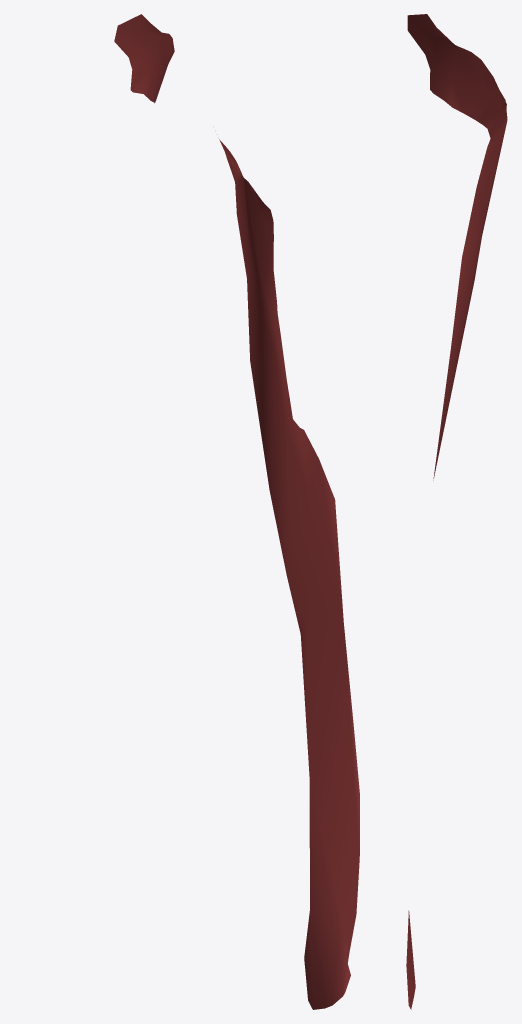
The model's file is vastus-lateralis-muscle-ol.glb.
3 renders of one model, left to right at view 1: azimuth 30°, elevation 25°; view 2: azimuth 210°, elevation 25°; view 3: azimuth 330°, elevation 25°, orthographic. The views are drawn at different scales.
Parts seen in each view (by area): view 1: Vastus lateralis muscle.ol; view 2: Vastus lateralis muscle.ol; view 3: Vastus lateralis muscle.ol.
Part boxes in pixels (bbox=[...]): Vastus lateralis muscle.ol: bbox=[114, 14, 174, 103]; Vastus lateralis muscle.ol: bbox=[219, 139, 359, 1009]; Vastus lateralis muscle.ol: bbox=[406, 14, 507, 1009].
Size of the model in its own units: 0.043 by 0.3146 by 0.029.
